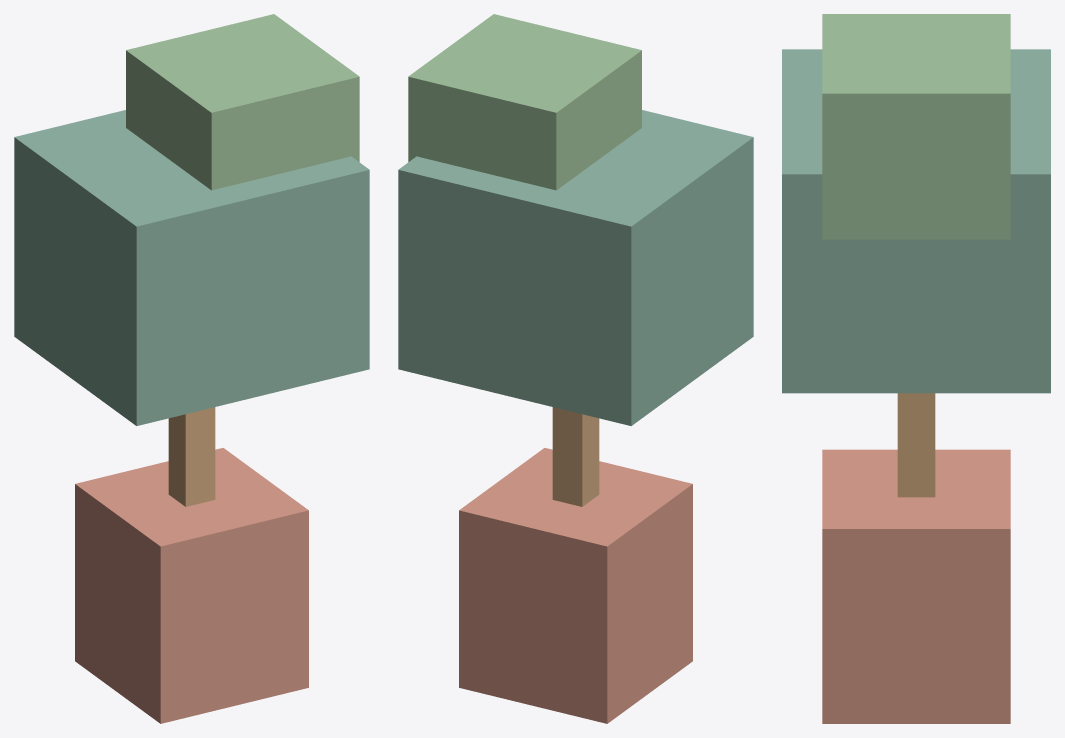
The model's file is planter.glb.
The picture shows the model from 3 angles, left to right: view 1: azimuth 30°, elevation 25°; view 2: azimuth 150°, elevation 25°; view 3: azimuth 270°, elevation 25°; orthographic projection. The views are drawn at different scales.
Size of the model in its own units: 0.57 by 1.35 by 0.5.
